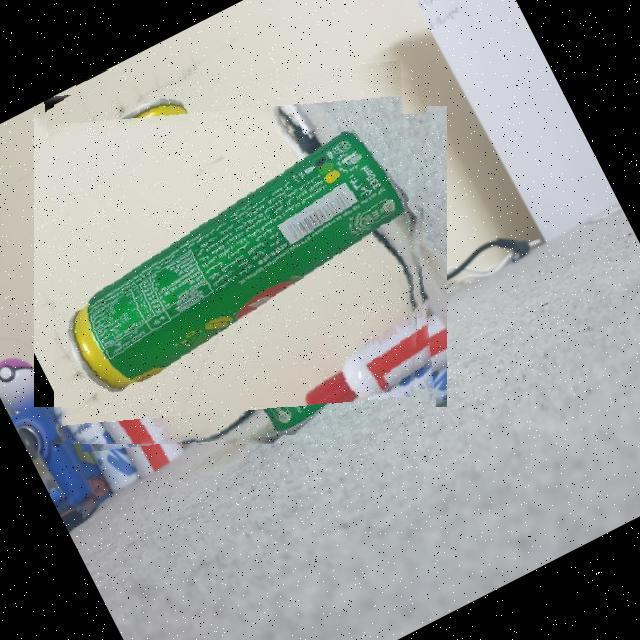recyclable: (54, 69, 428, 444)
